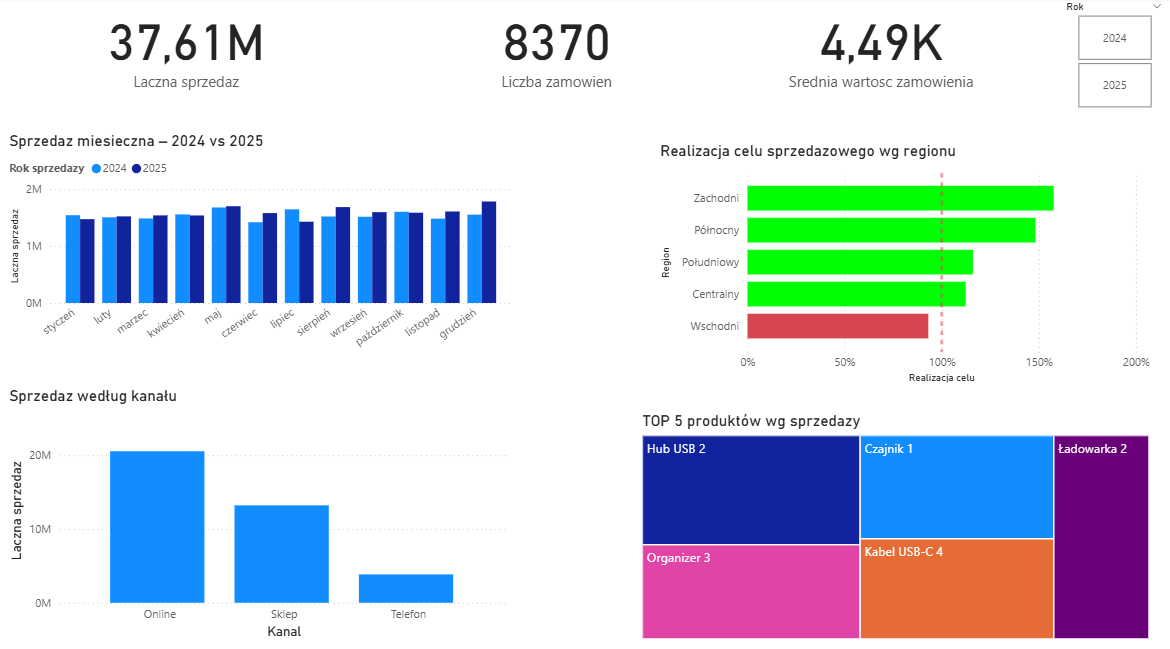

This screenshot's page, from the dashboard's own definition file:
{"tool":"powerbi","page":{"name":"Dashboard Sprzedaży","canvas":[1280,720],"ordinal":5},"visuals":[{"type":"card","fields":{"Values":["Pozycje.Laczna sprzedaz ZREALIZOWANE"]},"box":[18.3,0,391.7,106.7],"z":0},{"type":"card","fields":{"Values":["Zamowienia.Unikalne zamowienia"]},"box":[390,0,446.7,106.7],"z":1000},{"type":"card","fields":{"Values":["Zamowienia.Srednia wartosc zamowienia"]},"box":[751.7,0,425,106.7],"z":2000},{"type":"clusteredColumnChart","title":"Sprzedaz miesieczna – 2024 vs 2025","fields":{"Category":["Zamowienia.Nazwa miesiąca"],"Y":["Pozycje.Laczna sprzedaz ZREALIZOWANE"],"Series":["Zamowienia.Rok sprzedazy"]},"box":[18.3,145,551.7,253.3],"z":3000},{"type":"slicer","fields":{"Values":["Kalendarz.Rok"]},"box":[1151.7,0,128.3,126.7],"z":4000},{"type":"clusteredBarChart","title":"Realizacja celu sprzedazowego wg regionu","fields":{"Category":["Regiony.Region"],"Y":["Cele.Realizacja celu"]},"box":[720,156.7,538.3,265],"z":5000},{"type":"treemap","title":"TOP 5 produktów wg sprzedazy","fields":{"Details":["Produkty.Produkt"],"Values":["Pozycje.Laczna sprzedaz ZREALIZOWANE"]},"box":[701.7,448.3,556.7,250],"z":6000},{"type":"columnChart","title":"Sprzedaz według kanału","fields":{"Y":["Pozycje.Laczna sprzedaz ZREALIZOWANE"],"Category":["Zamowienia.Kanal"]},"box":[18.3,421.7,548.3,276.7],"z":7000}]}

Visuals, with their boxes in screenshot pixels (x1, y1, x2, y2), scaled from the page's 1280x720 canvas onto the 1170x649 screenshot:
card - Pozycje.Laczna sprzedaz ZREALIZOWANE: <region>17, 0, 375, 96</region>
card - Zamowienia.Unikalne zamowienia: <region>356, 0, 765, 96</region>
card - Zamowienia.Srednia wartosc zamowienia: <region>687, 0, 1076, 96</region>
"Sprzedaz miesieczna – 2024 vs 2025" clusteredColumnChart: <region>17, 131, 521, 359</region>
slicer - Kalendarz.Rok: <region>1053, 0, 1169, 114</region>
"Realizacja celu sprzedazowego wg regionu" clusteredBarChart: <region>658, 141, 1150, 380</region>
"TOP 5 produktów wg sprzedazy" treemap: <region>641, 404, 1150, 629</region>
"Sprzedaz według kanału" columnChart: <region>17, 380, 518, 630</region>
